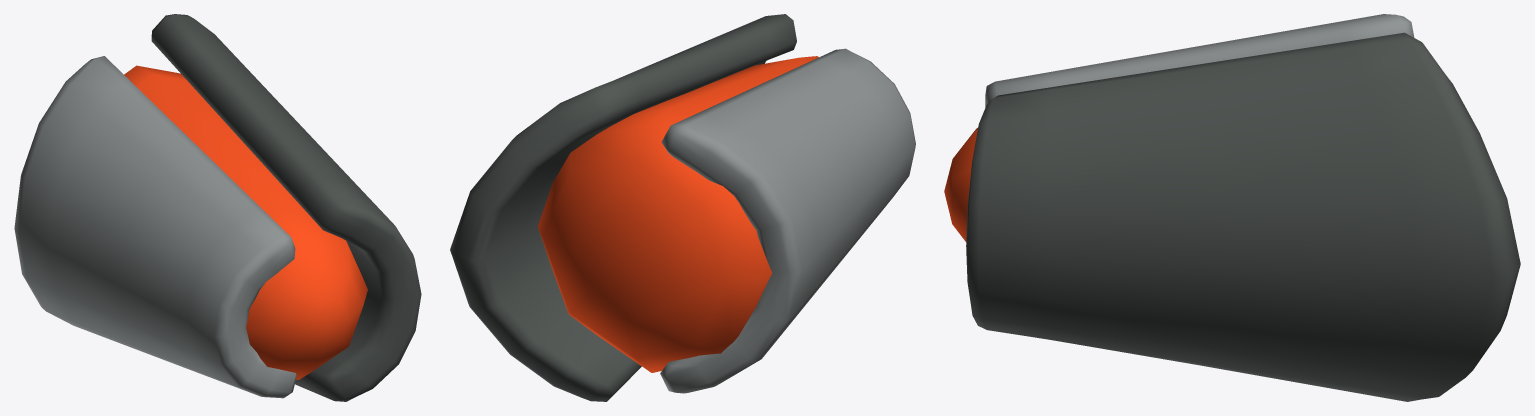
File: xsens_RightFirstMC.dae
3 views of the same model, side by side, from view 1: azimuth 30°, elevation 25°; view 2: azimuth 150°, elevation 25°; view 3: azimuth 270°, elevation 25° (orthographic). The views are drawn at different scales.
Visible parts, largest first — view 1: RightFirstMC; view 2: RightFirstMC; view 3: RightFirstMC.
Part boxes in pixels (bbox=[...]): RightFirstMC: bbox=[14, 14, 421, 401]; RightFirstMC: bbox=[450, 14, 915, 401]; RightFirstMC: bbox=[944, 14, 1520, 401].
Bounding box in the file's own units: 0.0288 × 0.0437 × 0.0302.
